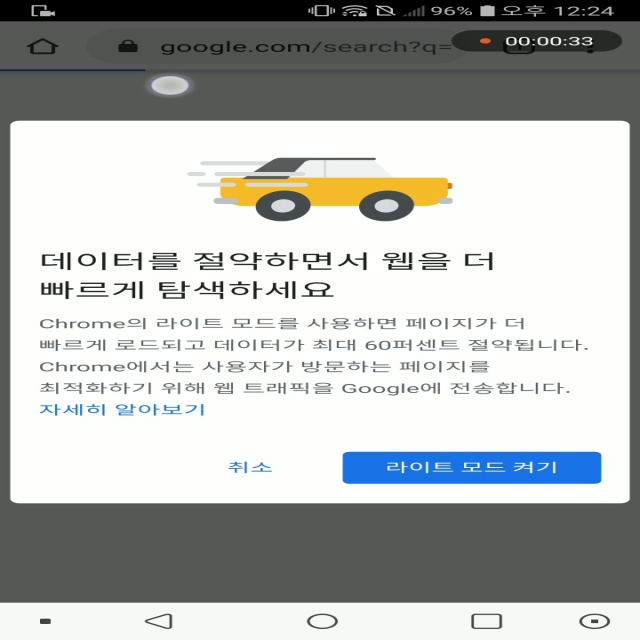Cursor: (148, 75, 192, 97)
